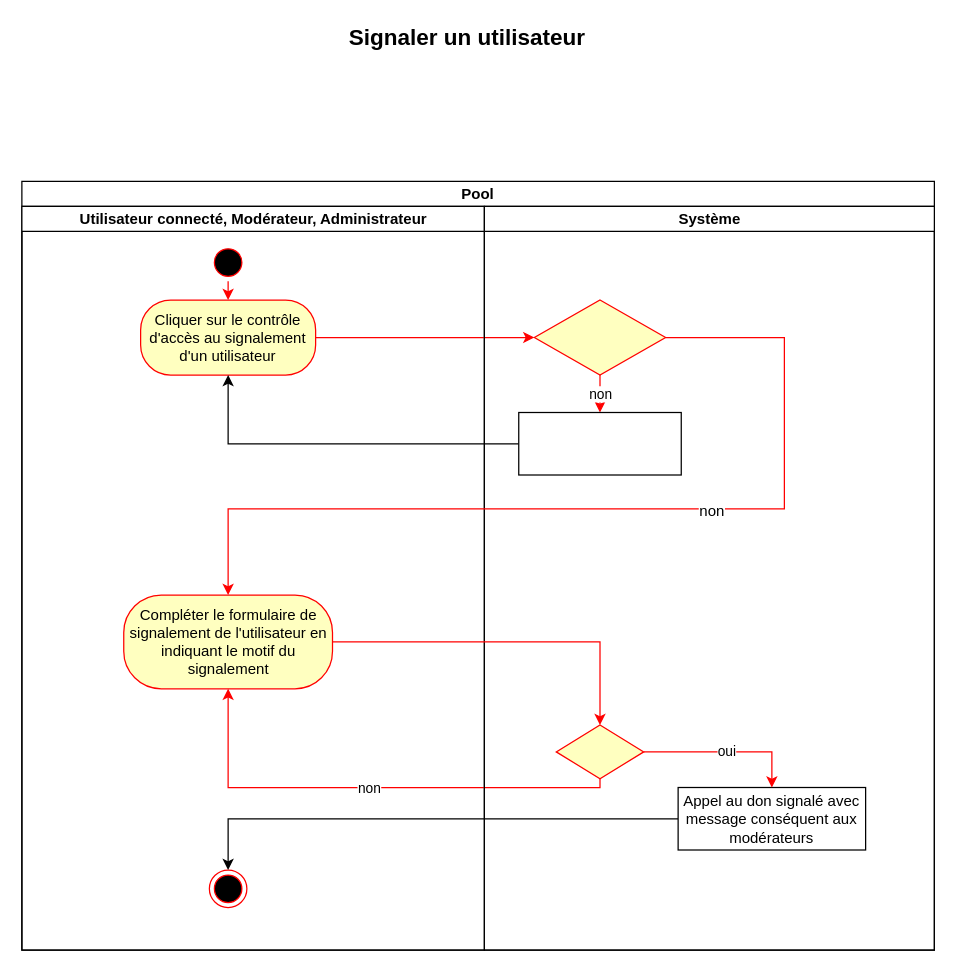
This 956x971 diagram has some shape labels left out. The centre of each missing label's shape, as x and y in pixels:
"Message de rejet de sa demande avec la cause du rejet" goes at point 599,443.
"Utilisateur suspendu ?" goes at point 599,337.
"Validé ?" goes at point 599,751.
